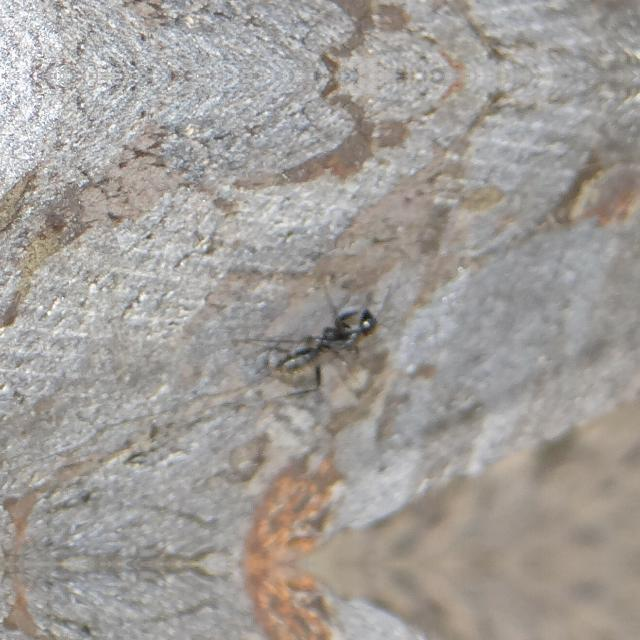Camponotus: (265, 284, 387, 398)
